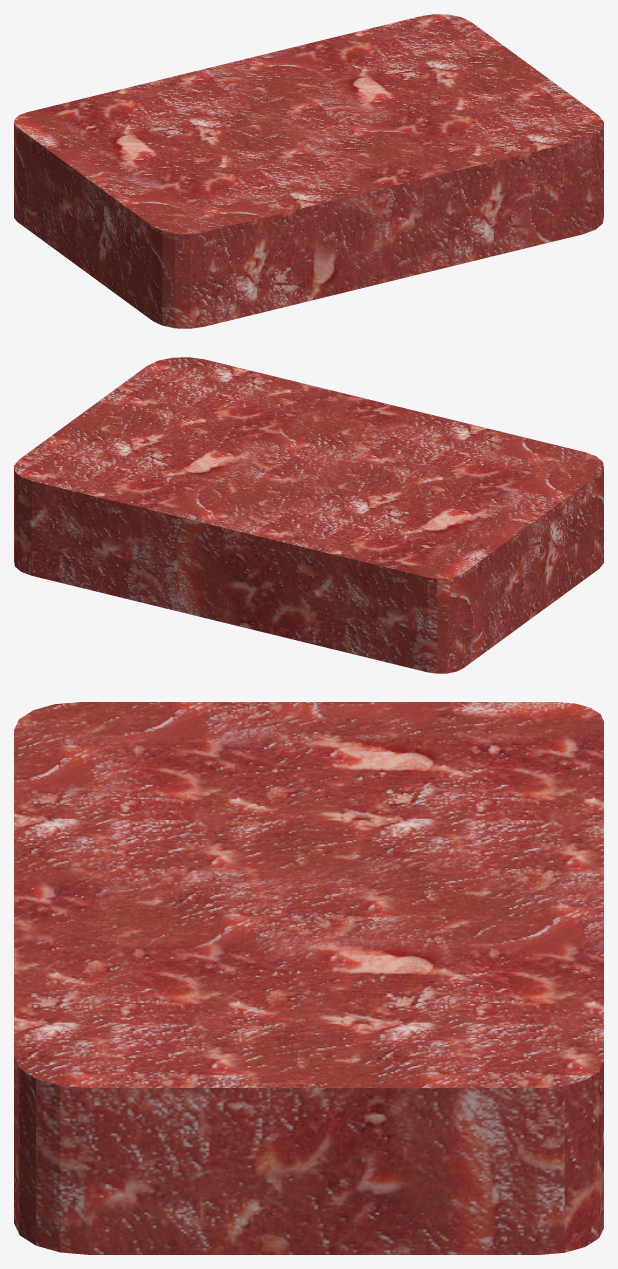
Rendered from daging.fbx.
3 renders of one model, top to bottom at view 1: azimuth 30°, elevation 25°; view 2: azimuth 150°, elevation 25°; view 3: azimuth 270°, elevation 25°, orthographic. The views are drawn at different scales.
Visible parts, largest first — view 1: Cube; view 2: Cube; view 3: Cube.
Boxes of the visible parts, x1,y1,x2,y2 form: Cube: (14, 14, 603, 328); Cube: (14, 357, 603, 673); Cube: (14, 702, 603, 1254).
Size of the model in its own units: 583 by 117 by 377.
